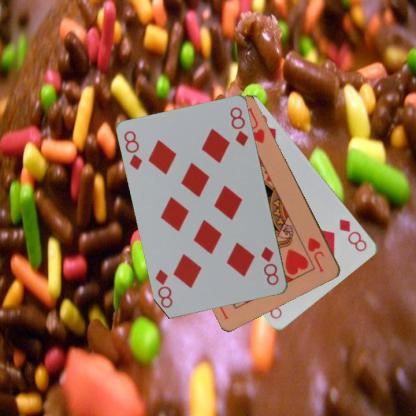8d: (336, 216, 368, 253), (121, 128, 144, 171), (258, 244, 280, 287)
Jh: (305, 234, 327, 274)
